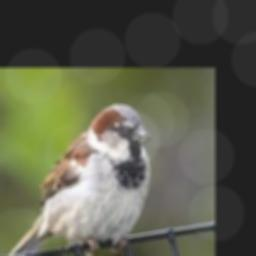Sparrow: (0, 104, 151, 256)
